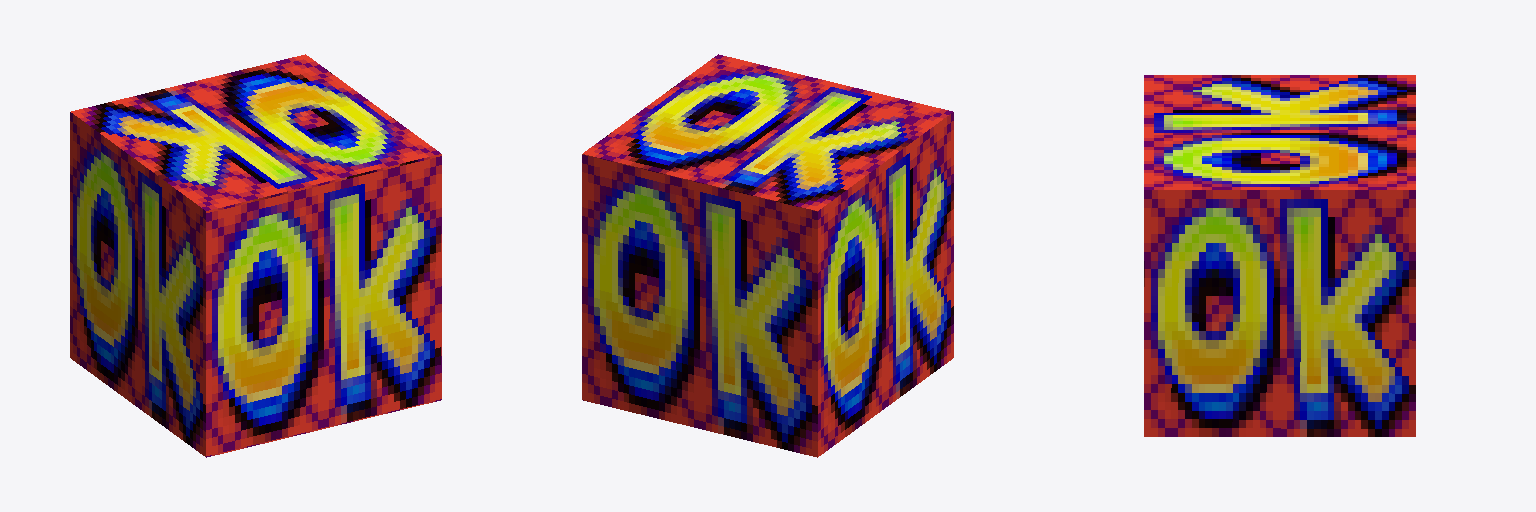
The picture shows the model from 3 angles: view 1: azimuth 30°, elevation 25°; view 2: azimuth 150°, elevation 25°; view 3: azimuth 270°, elevation 25°; orthographic projection.
Parts seen in each view (by area): view 1: Cube; view 2: Cube; view 3: Cube.
Part boxes in pixels (bbox=[...]): Cube: bbox=[70, 54, 441, 457]; Cube: bbox=[582, 54, 953, 457]; Cube: bbox=[1144, 75, 1415, 436].
Size of the model in its own units: 2 by 2 by 2.
1 materials, 1 textured.